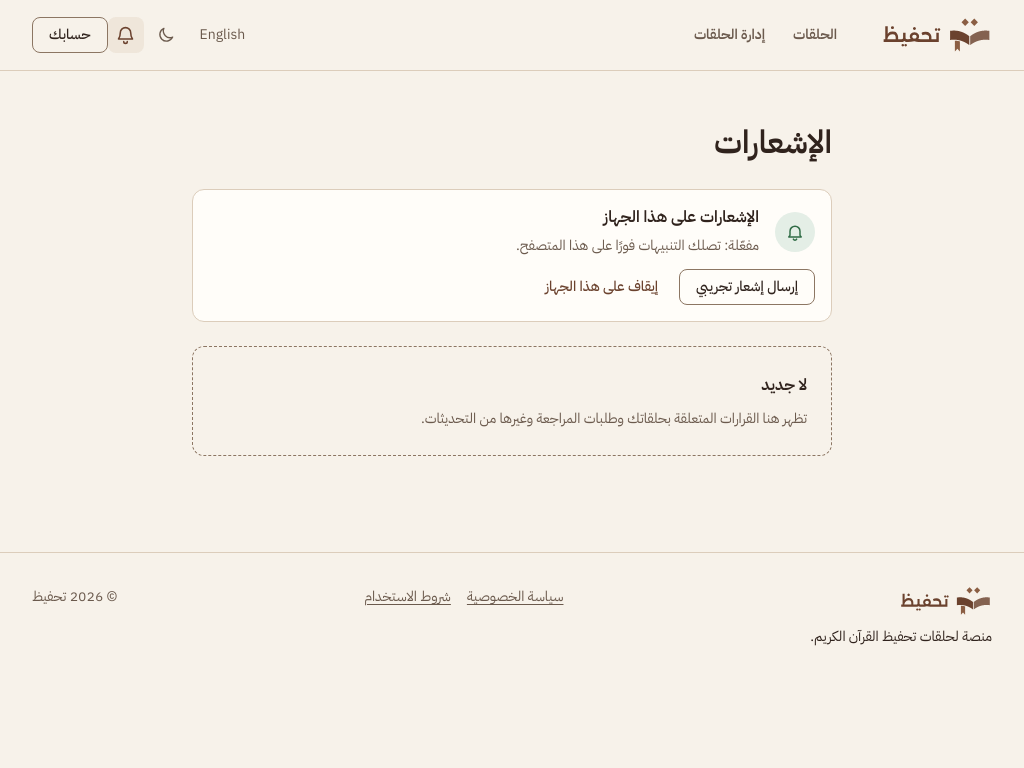
it: push notifications (web) › sends a test notification from the notifications page once push is on
The width and height of the screenshot is (1024, 768).
Click the button "إرسال إشعار تجريبي": point(747, 287) [679,269,815,305]
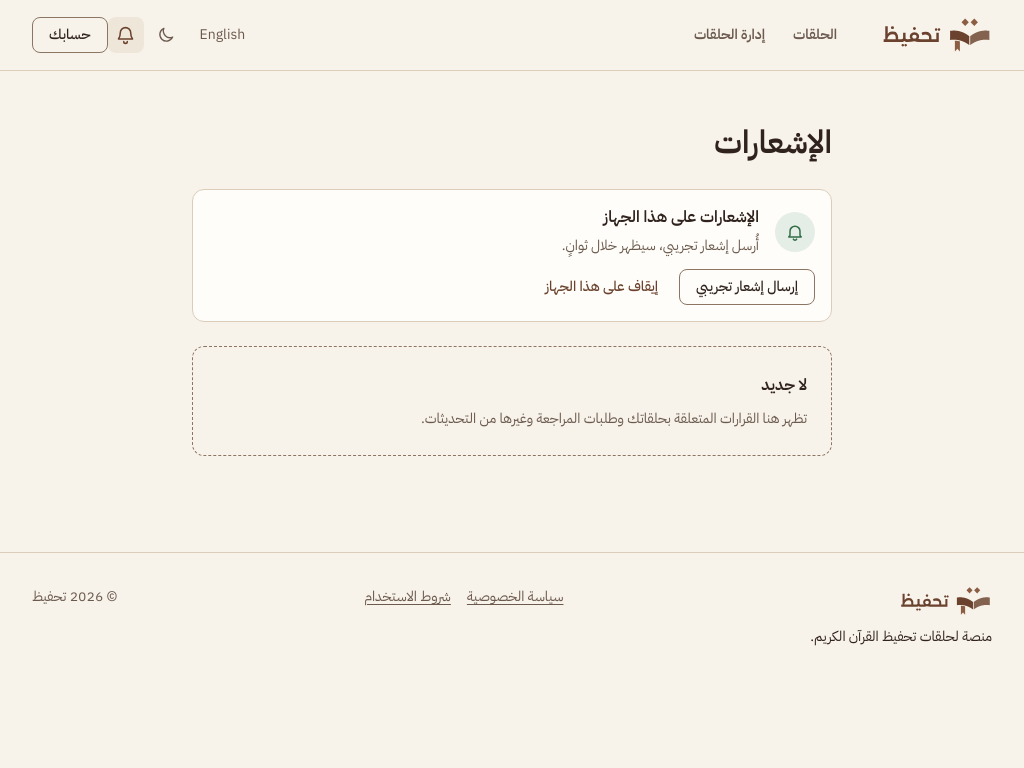
expect the text "أُرسل إشعار تجريبي، سيظهر خلال ثوانٍ." is shown: met, box [562,235,759,256]
